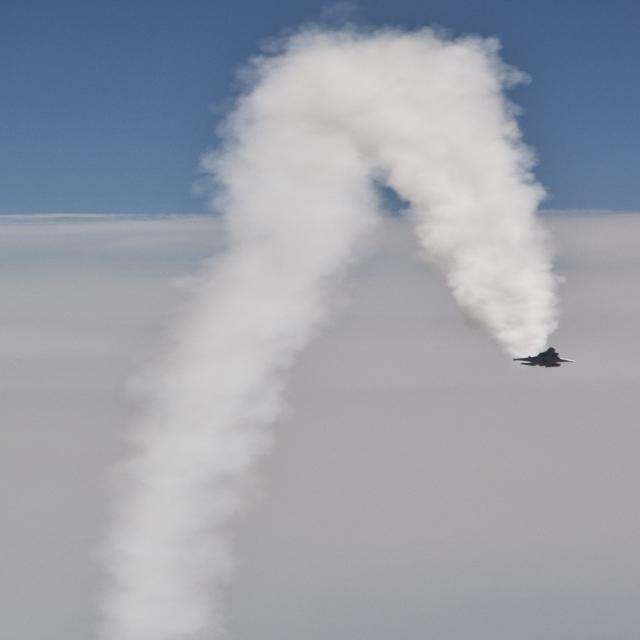MIL_Plane: (513, 347, 575, 367)
